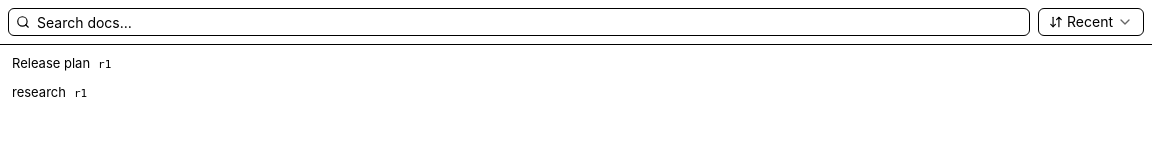
Test case: DocumentRoster › narrows the active list to the search match and shows the no-results hint otherwise
This screenshot has width=1152, height=160.
Type "nothing matches this" into the search field labelled "Search docs".
click(519, 22); type("nothing matches this")  # box [8, 8, 1030, 36]
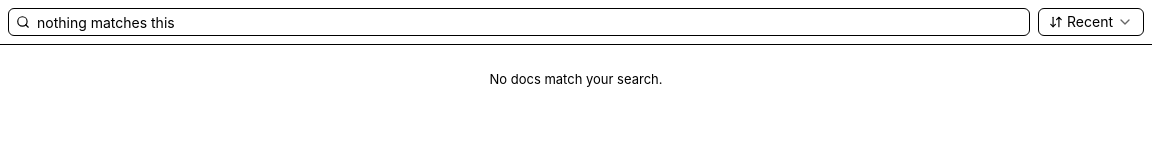
Now the text "No docs match your search." is shown, box [490, 69, 662, 90]
Now the option is gone
